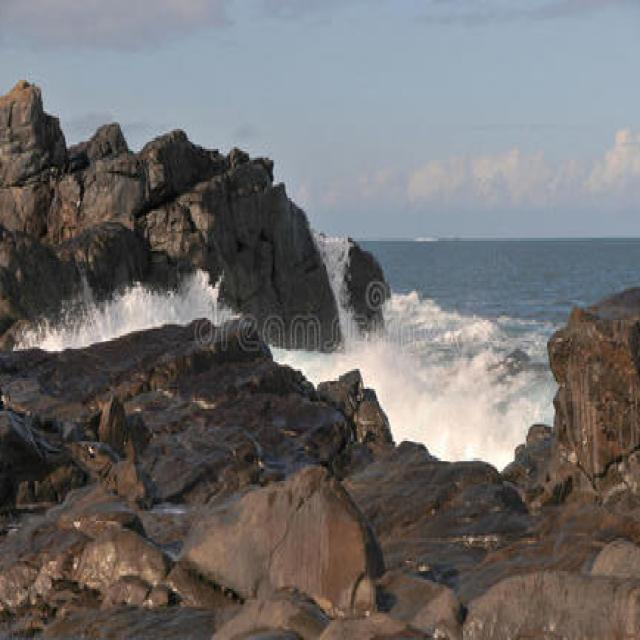reef: (292, 209, 640, 531)
